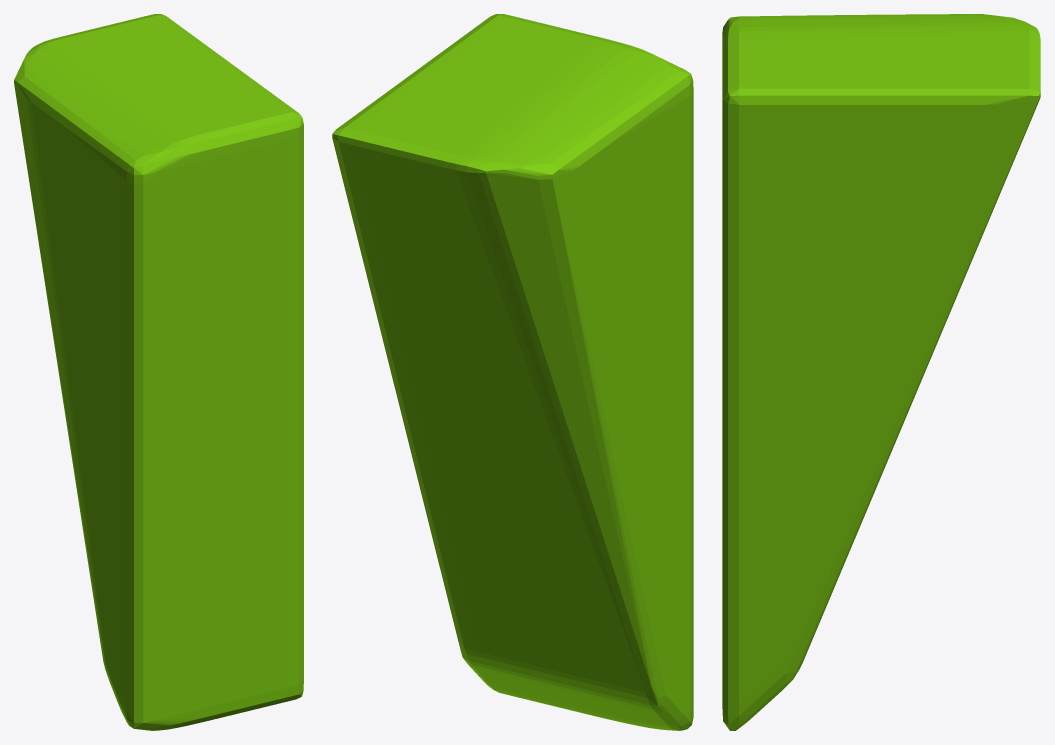
Rendered from left_th_distal_pst_part_4.obj.
3 views of the same model, side by side, from view 1: azimuth 30°, elevation 25°; view 2: azimuth 150°, elevation 25°; view 3: azimuth 270°, elevation 25° (orthographic). The views are drawn at different scales.
Size of the model in its own units: 5.62 by 17.95 by 8.09.
